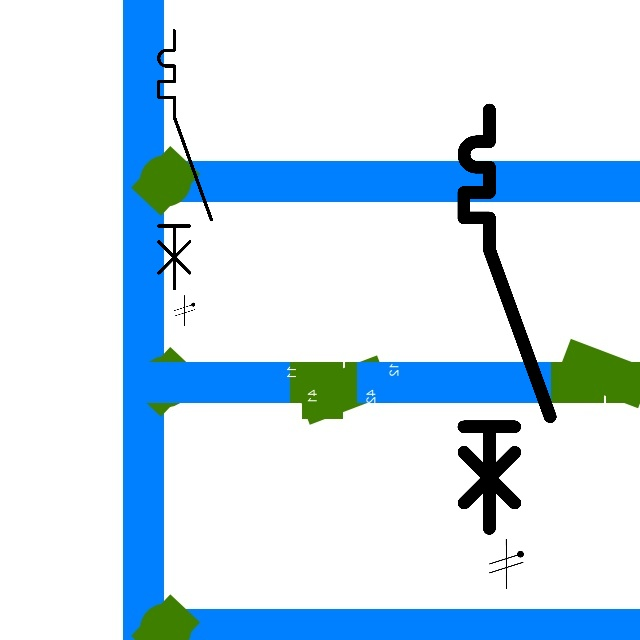interruptor_termomagnetico: (453, 99, 561, 539), (152, 24, 218, 295)
